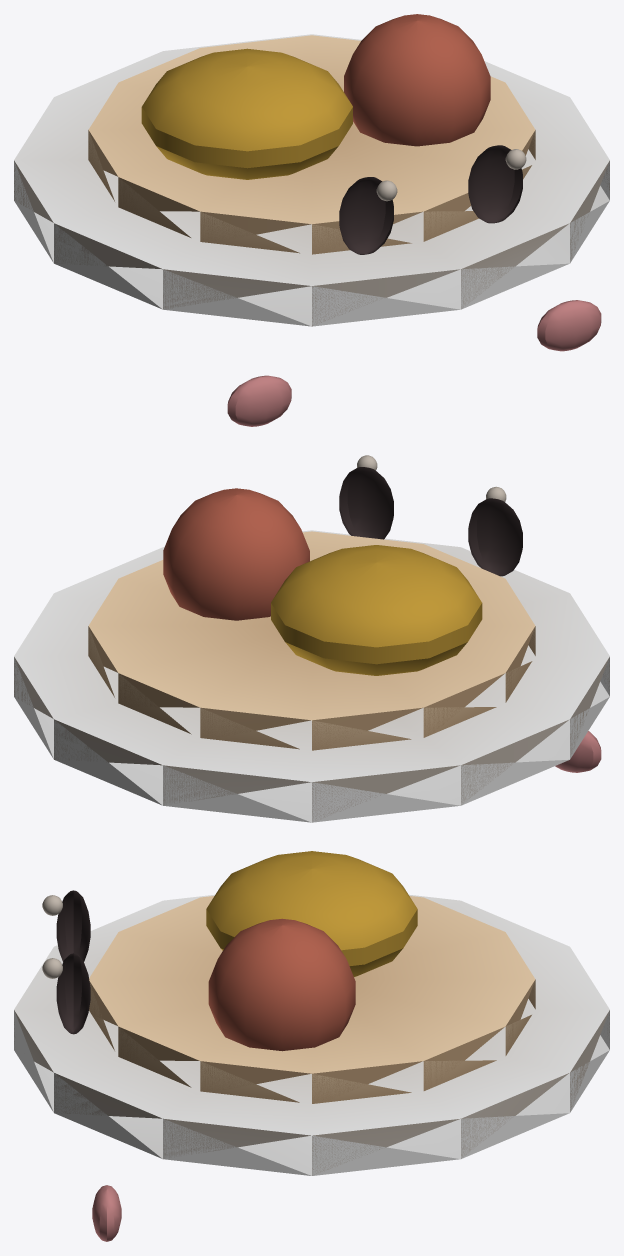
The model's file is p7d9ebcc9.glb.
3 renders of one model, top to bottom at view 1: azimuth 30°, elevation 25°; view 2: azimuth 150°, elevation 25°; view 3: azimuth 270°, elevation 25°, orthographic.
Parts seen in each view (by area): view 1: pet_p7d9ebcc9; view 2: pet_p7d9ebcc9; view 3: pet_p7d9ebcc9.
Boxes of the visible parts, x1=… form: pet_p7d9ebcc9: x1=14, y1=14, x2=609, y2=426; pet_p7d9ebcc9: x1=14, y1=455, x2=609, y2=822; pet_p7d9ebcc9: x1=14, y1=851, x2=609, y2=1241.
Bounding box in the file's own units: 0.4 × 0.2076 × 0.4.
